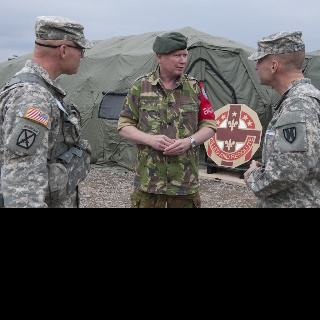without_mask: (161, 48, 187, 75), (61, 47, 84, 75), (253, 57, 271, 84)
